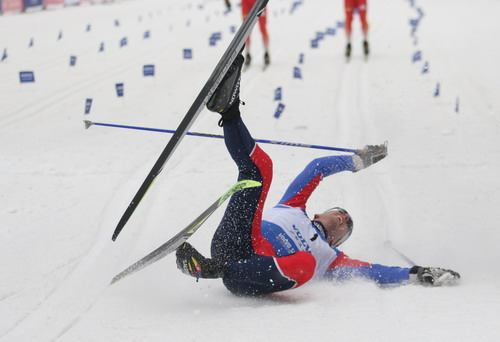down: (187, 47, 469, 307)
